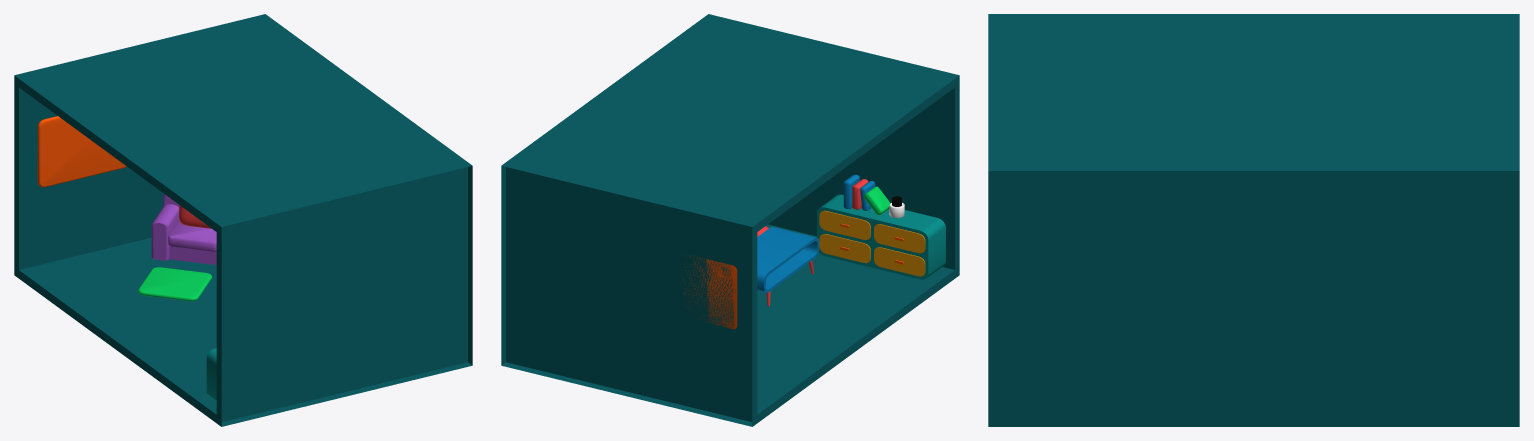
The model's file is SM_Room04.fbx.
The picture shows the model from 3 angles, left to right: view 1: azimuth 30°, elevation 25°; view 2: azimuth 150°, elevation 25°; view 3: azimuth 270°, elevation 25°; orthographic projection. The views are drawn at different scales.
Visible parts, largest first — view 1: Cube.259, Cube.248, Cube.253, Cube.208, Room04, Tapis rectangle.012, Tapis carre.002, Plane.092, Tapis rectangle.010, Plane.093, MeubleTV.001; view 2: Cube.208, Cube.259, Cube.253, Cube.248, MeubleTV.001, Room04, TableBasse.005, Tapis rectangle.012, Tiroirs.011, Tiroirs.013, Tiroirs.014, Tiroirs.012 (+1 smaller); view 3: Room04, Cube.259, Cube.253, Cube.208, Cube.248.
Boxes of the visible parts, bbox=[...] form: Cube.259: bbox=[19, 18, 467, 231]; Cube.248: bbox=[216, 162, 472, 426]; Cube.253: bbox=[19, 237, 216, 422]; Cube.208: bbox=[14, 14, 269, 278]; Room04: bbox=[254, 17, 467, 357]; Tapis rectangle.012: bbox=[37, 116, 126, 187]; Tapis carre.002: bbox=[138, 267, 211, 301]; Plane.092: bbox=[151, 204, 179, 260]; Tapis rectangle.010: bbox=[168, 220, 216, 251]; Plane.093: bbox=[169, 246, 216, 264]; MeubleTV.001: bbox=[206, 348, 216, 401]; Cube.208: bbox=[501, 162, 757, 426]; Cube.259: bbox=[515, 17, 954, 231]; Cube.253: bbox=[603, 224, 954, 422]; Cube.248: bbox=[704, 14, 959, 278]; MeubleTV.001: bbox=[817, 194, 945, 279]; Room04: bbox=[506, 18, 719, 317]; TableBasse.005: bbox=[757, 226, 819, 292]; Tapis rectangle.012: bbox=[681, 255, 737, 329]; Tiroirs.011: bbox=[874, 224, 925, 253]; Tiroirs.013: bbox=[874, 247, 925, 276]; Tiroirs.014: bbox=[819, 234, 870, 263]; Tiroirs.012: bbox=[819, 210, 870, 239]; Room04: bbox=[1000, 160, 1507, 415]; Cube.259: bbox=[1000, 14, 1507, 181]; Cube.253: bbox=[1000, 416, 1507, 426]; Cube.208: bbox=[1507, 14, 1519, 426]; Cube.248: bbox=[988, 14, 1000, 426].
Bounding box in the file's own units: 55000 × 41807 × 78614.
